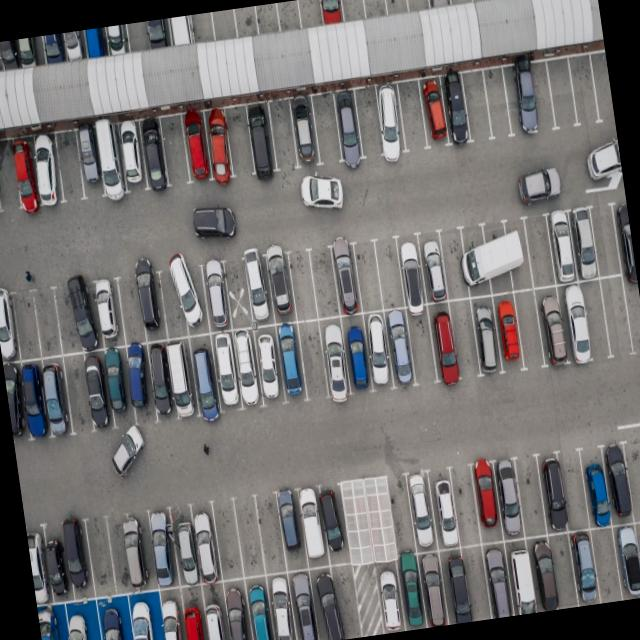car: (557, 279, 603, 363), (170, 258, 211, 338), (535, 286, 573, 368), (61, 279, 102, 355), (187, 334, 224, 418), (506, 61, 546, 138), (503, 536, 542, 614), (362, 310, 399, 391), (272, 321, 309, 402), (402, 470, 438, 553), (468, 460, 504, 543), (208, 330, 244, 413), (316, 313, 352, 396), (55, 516, 92, 596), (189, 502, 226, 582), (35, 356, 72, 436), (380, 307, 416, 389), (427, 467, 463, 549), (228, 328, 264, 410), (162, 337, 198, 419), (146, 509, 182, 591), (427, 302, 463, 383), (470, 293, 506, 374), (546, 210, 584, 286), (478, 218, 516, 294), (198, 256, 235, 334), (252, 324, 288, 404), (490, 290, 526, 370), (100, 346, 136, 426), (124, 342, 159, 423), (15, 359, 50, 440), (372, 84, 409, 160), (481, 540, 517, 618), (580, 450, 616, 528), (340, 310, 374, 392), (494, 459, 528, 541), (288, 95, 324, 171), (244, 248, 279, 326), (276, 490, 310, 570), (118, 512, 152, 592), (536, 456, 570, 536), (460, 222, 496, 297), (263, 246, 298, 323), (167, 505, 200, 586), (374, 560, 410, 634), (179, 110, 214, 186), (568, 528, 603, 604), (332, 90, 367, 166), (94, 122, 129, 198), (308, 564, 343, 640), (296, 488, 330, 566), (315, 486, 349, 564), (414, 548, 448, 626), (260, 571, 298, 640), (438, 546, 472, 623), (417, 76, 452, 150), (114, 120, 149, 194), (240, 574, 279, 640), (146, 340, 178, 420), (601, 448, 633, 528), (287, 567, 322, 640), (244, 102, 278, 177), (566, 206, 600, 281), (500, 217, 534, 292), (93, 278, 129, 348), (31, 134, 66, 206), (527, 537, 560, 613), (138, 119, 172, 192), (135, 266, 168, 341), (393, 556, 426, 631), (84, 351, 116, 428), (329, 244, 364, 314), (200, 108, 233, 182), (441, 72, 474, 146), (10, 136, 42, 212), (609, 521, 640, 599), (120, 587, 165, 640), (396, 236, 430, 306), (416, 234, 450, 304), (76, 128, 108, 200), (218, 577, 254, 640), (40, 528, 70, 602), (195, 583, 233, 640), (175, 583, 212, 640), (27, 530, 54, 608), (2, 361, 28, 439), (93, 592, 135, 640), (155, 586, 192, 640), (54, 600, 97, 640), (614, 200, 636, 276), (0, 291, 21, 362), (43, 600, 77, 640), (37, 604, 66, 640), (15, 36, 43, 70), (101, 24, 130, 56), (82, 28, 110, 61), (144, 18, 172, 50), (42, 33, 69, 66), (167, 15, 194, 47), (61, 31, 86, 62), (317, 0, 344, 25), (0, 40, 19, 71), (427, 0, 454, 8)
free: (292, 320, 330, 400), (404, 305, 441, 385), (448, 466, 483, 550), (446, 298, 482, 379), (600, 276, 636, 356), (255, 495, 290, 577), (326, 562, 363, 639), (514, 288, 550, 367), (514, 458, 549, 539), (384, 477, 418, 560), (456, 544, 493, 620), (588, 524, 624, 602), (209, 500, 244, 580), (232, 498, 266, 580), (559, 452, 593, 532), (62, 353, 96, 433), (310, 92, 346, 167), (158, 114, 194, 189), (522, 214, 558, 288), (224, 104, 260, 178), (590, 202, 625, 278), (264, 99, 300, 172), (458, 68, 493, 143), (352, 87, 387, 162), (580, 278, 612, 360), (84, 517, 118, 594), (394, 80, 429, 154), (569, 54, 604, 128), (372, 240, 407, 312), (437, 229, 472, 301), (287, 248, 321, 322), (546, 56, 580, 130), (220, 254, 252, 332), (306, 247, 341, 318), (54, 284, 89, 354), (54, 130, 88, 202), (548, 533, 580, 608), (350, 243, 384, 313), (482, 66, 514, 140), (116, 274, 149, 345), (157, 264, 188, 338), (527, 59, 557, 134), (108, 516, 136, 594), (342, 488, 370, 564), (12, 292, 42, 360), (32, 288, 62, 356), (0, 139, 25, 214), (590, 51, 614, 121), (621, 273, 640, 352), (622, 441, 640, 523), (75, 599, 109, 640), (274, 1, 302, 34), (254, 3, 282, 36), (210, 9, 237, 41), (126, 21, 152, 54), (233, 6, 259, 39), (190, 12, 216, 44), (297, 0, 325, 29), (338, 0, 366, 23), (362, 0, 389, 19), (384, 0, 411, 15), (404, 0, 432, 12), (0, 41, 5, 74), (446, 0, 472, 6)
